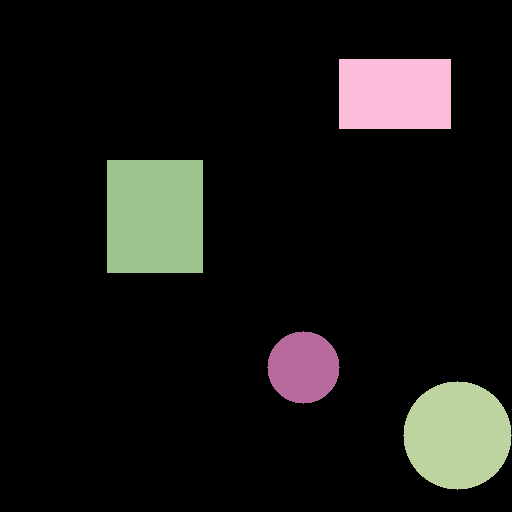circle: (403, 381, 511, 489), (267, 331, 339, 403)
rectangle: (107, 160, 202, 272), (339, 59, 450, 128)
